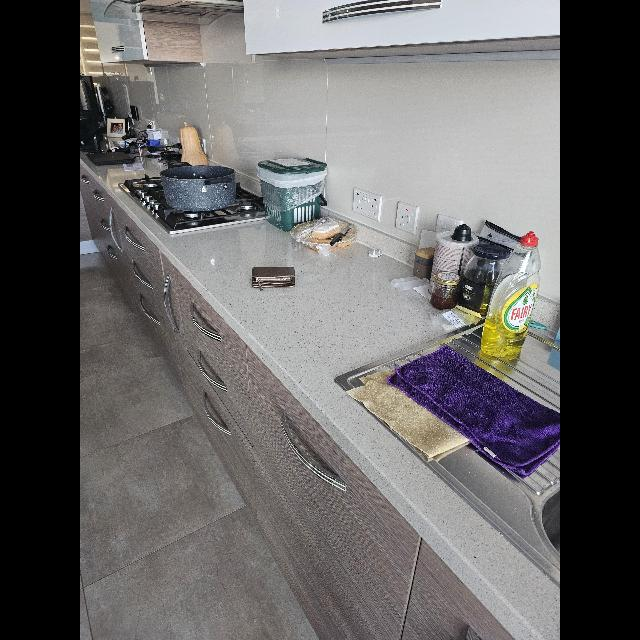Wallet: (251, 266, 295, 290)
